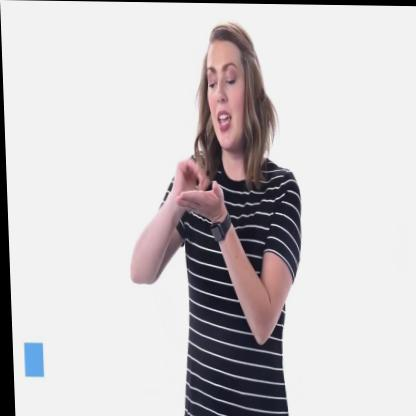ExcuseMe: (171, 144, 225, 225)
